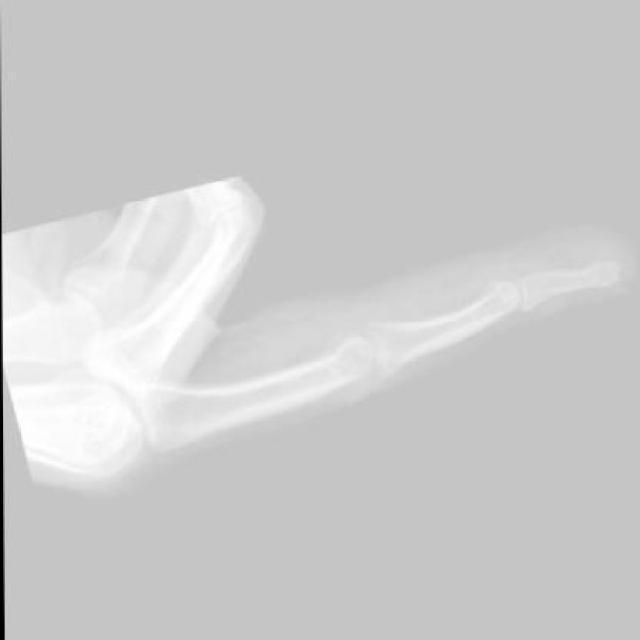Fracture: (588, 255, 628, 294)
